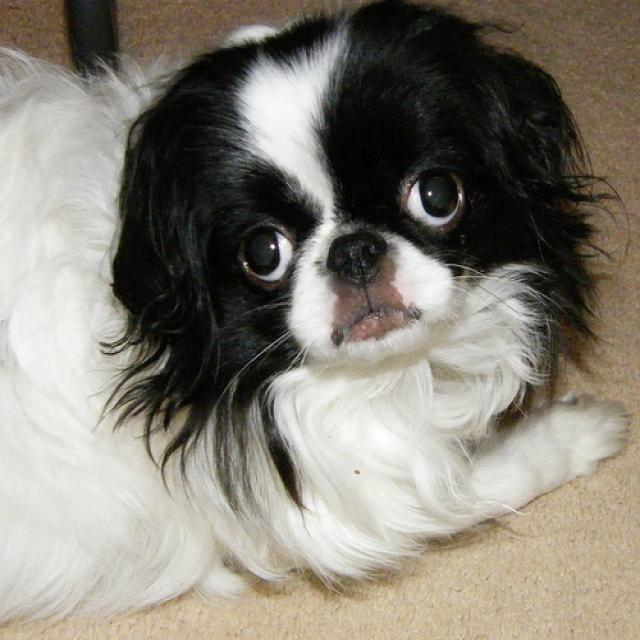dog-japanese_chin: (1, 1, 637, 637)
